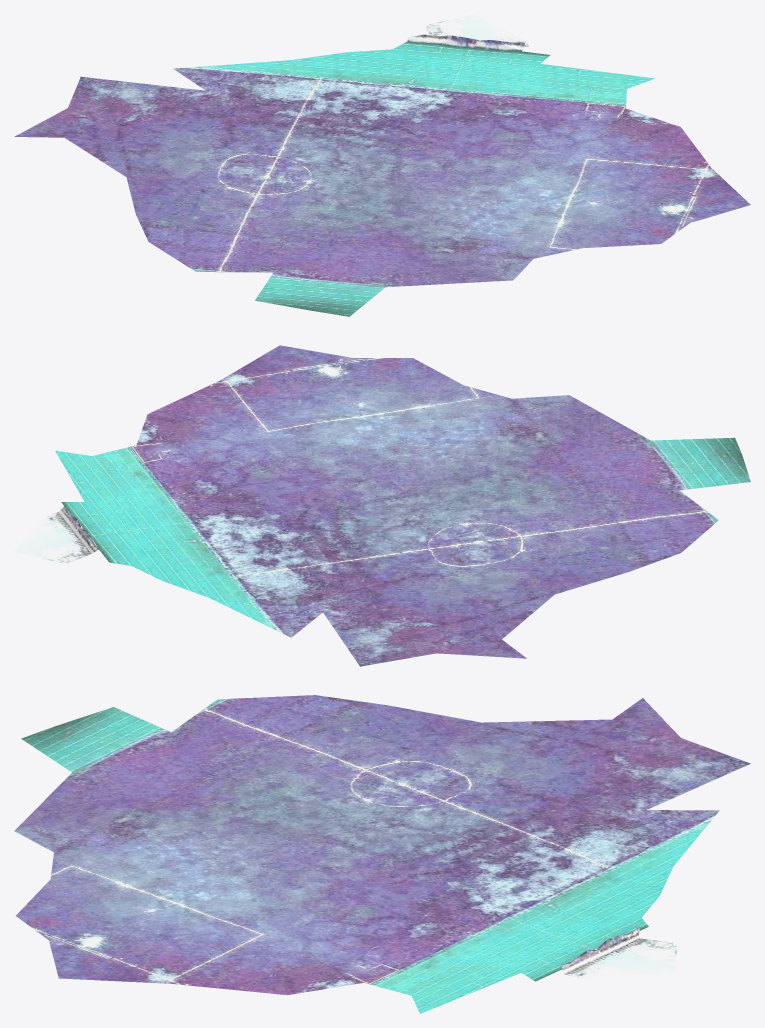
Rendered from Tile_+012_+018_L19_000010.glb.
3 views of the same model, one above another, from view 1: azimuth 30°, elevation 25°; view 2: azimuth 150°, elevation 25°; view 3: azimuth 270°, elevation 25° (orthographic). The views are drawn at different scales.
Parts seen in each view (by area): view 1: rtc; view 2: rtc; view 3: rtc.
Boxes of the visible parts, x1,y1,x2,y2 form: rtc: (14,14,750,316); rtc: (14,345,750,666); rtc: (14,695,750,1013).
Size of the model in its own units: 66.82 by 2.09 by 66.27.
Materials: 1 (1 with a texture image).
